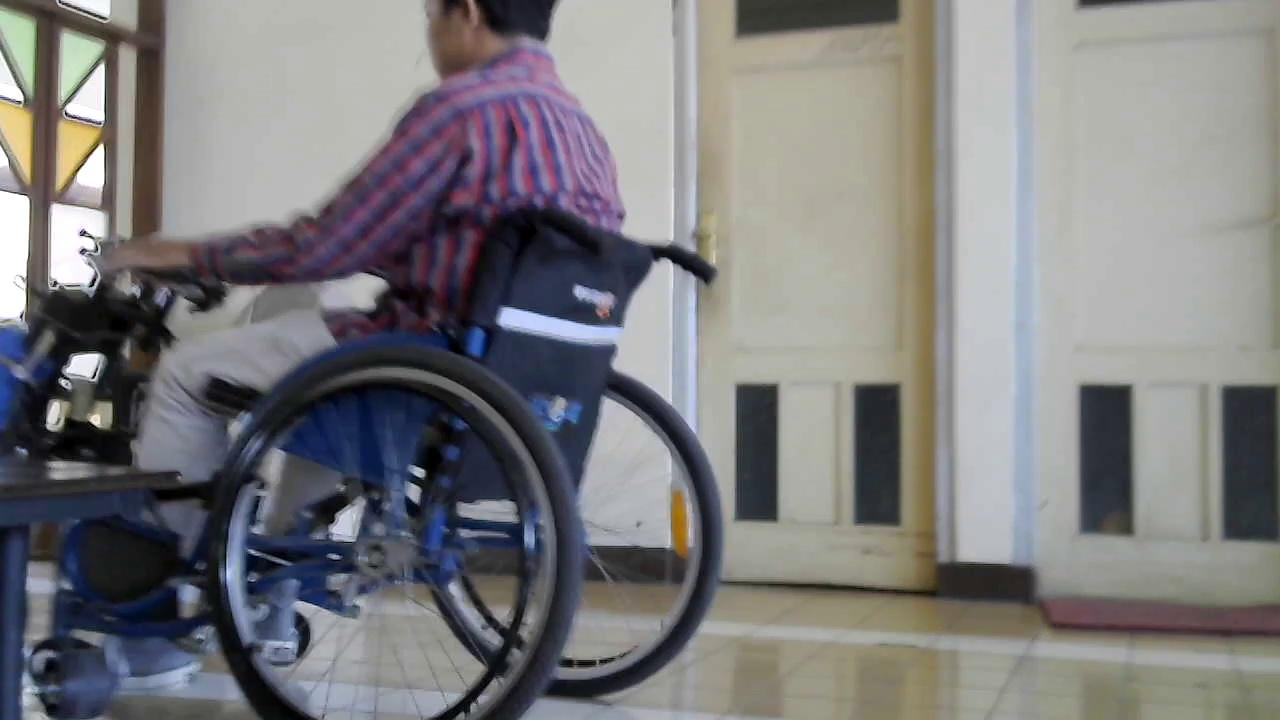wheelchair: (105, 217, 747, 720)
